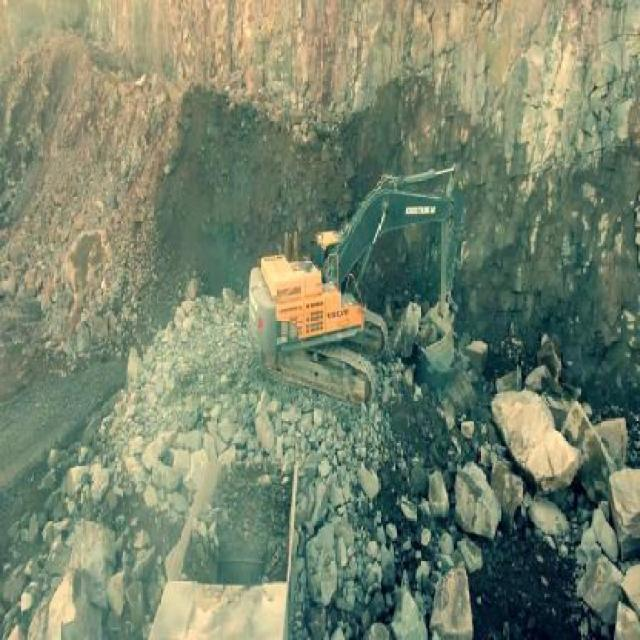dump_truck: (148, 458, 302, 639)
excavator: (246, 160, 468, 412)
